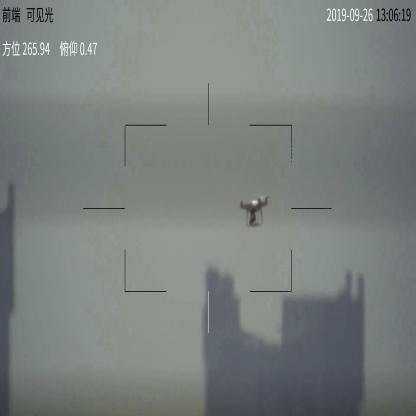uav: (239, 196, 273, 228)
